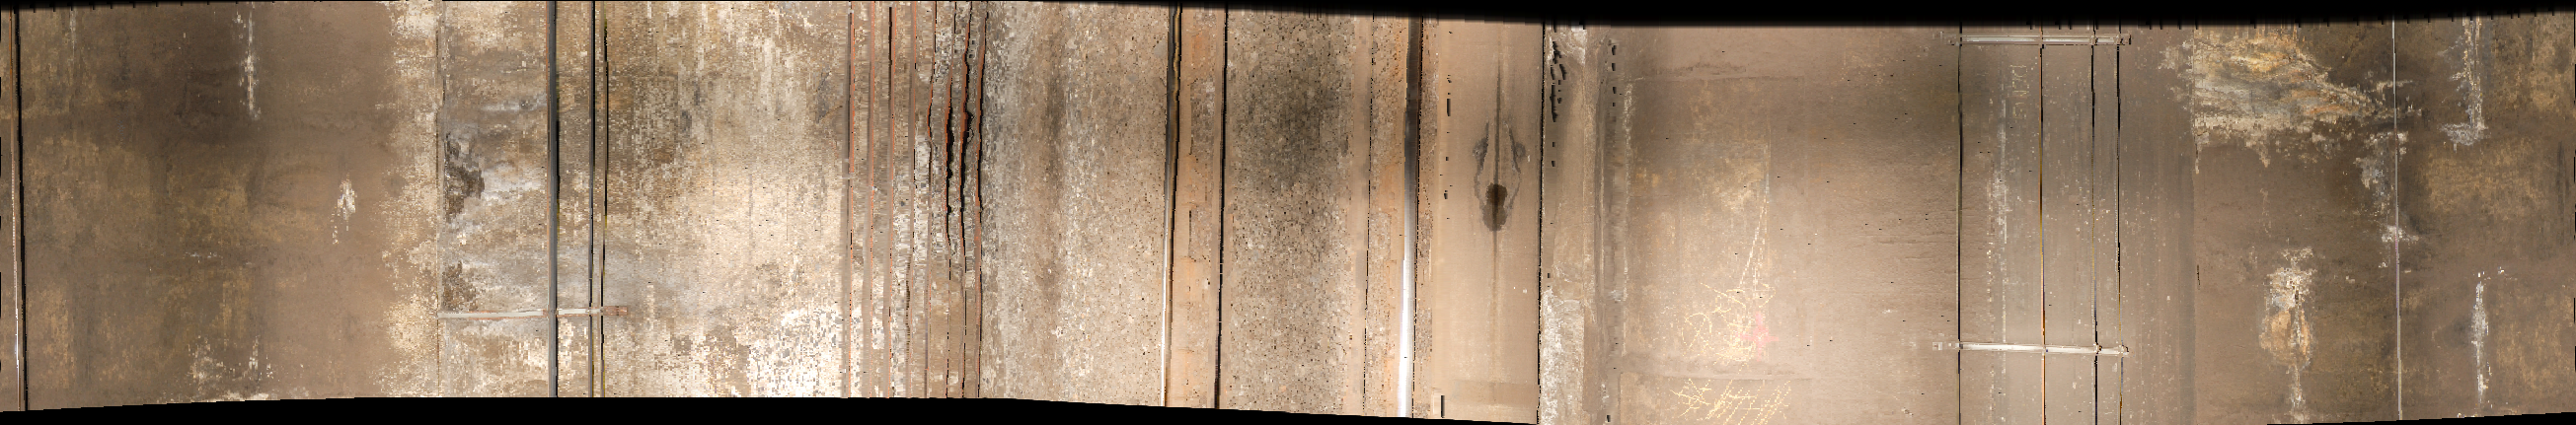pipes: (843, 3, 987, 409), (2032, 31, 2132, 425), (539, 3, 613, 404), (1945, 31, 1985, 425), (2379, 11, 2413, 425), (8, 7, 38, 425)
tracks: (1168, 2, 1536, 425)
